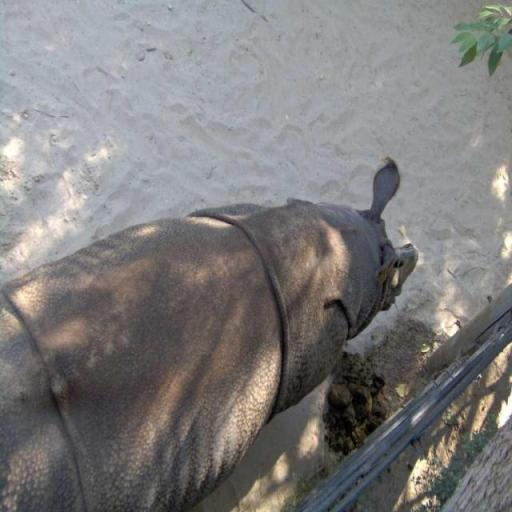Rhino: (0, 153, 418, 510)
